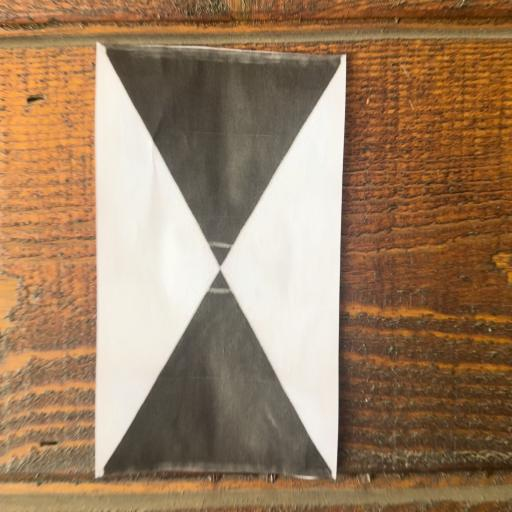target: (96, 42, 346, 480)
